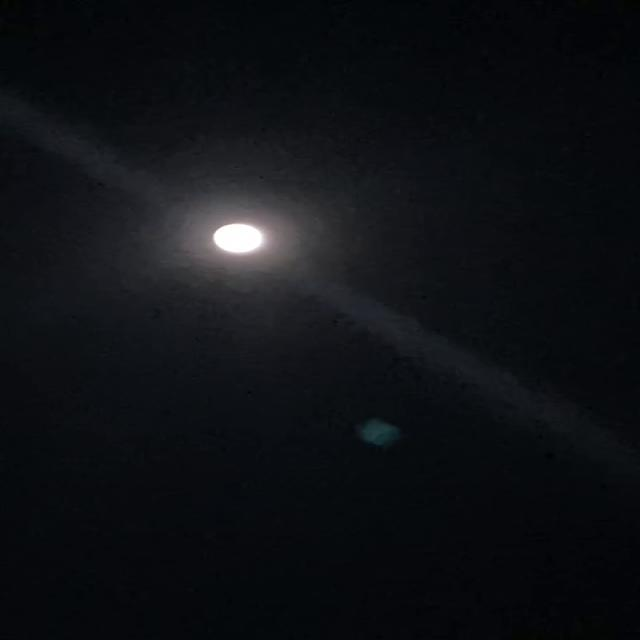moon: (197, 212, 288, 258)
